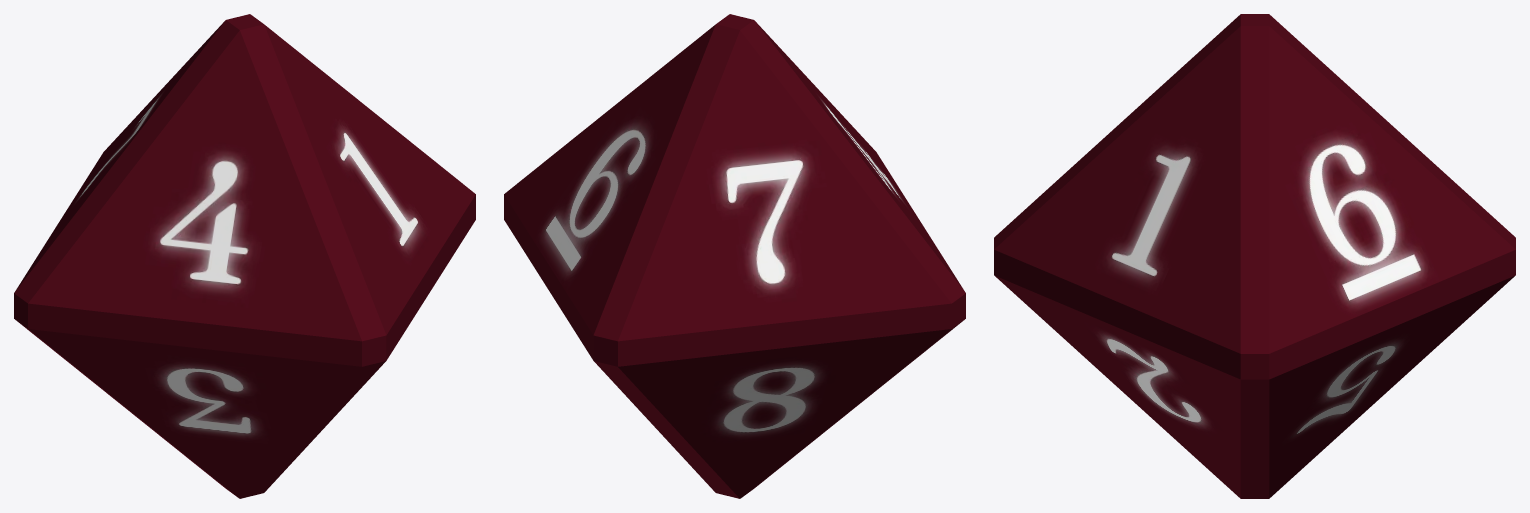
The model's file is D8Disadvantage.glb.
The picture shows the model from 3 angles, left to right: view 1: azimuth 30°, elevation 25°; view 2: azimuth 150°, elevation 25°; view 3: azimuth 270°, elevation 25°; orthographic projection.
Parts seen in each view (by area): view 1: D8Disadvantage; view 2: D8Disadvantage; view 3: D8Disadvantage.
Part boxes in pixels (x1=…): D8Disadvantage: x1=14, y1=14, x2=475, y2=498; D8Disadvantage: x1=504, y1=14, x2=965, y2=498; D8Disadvantage: x1=994, y1=14, x2=1515, y2=498.
Bounding box in the file's own units: 2.89 × 2.89 × 2.89.
Materials: 1 (1 with a texture image).
